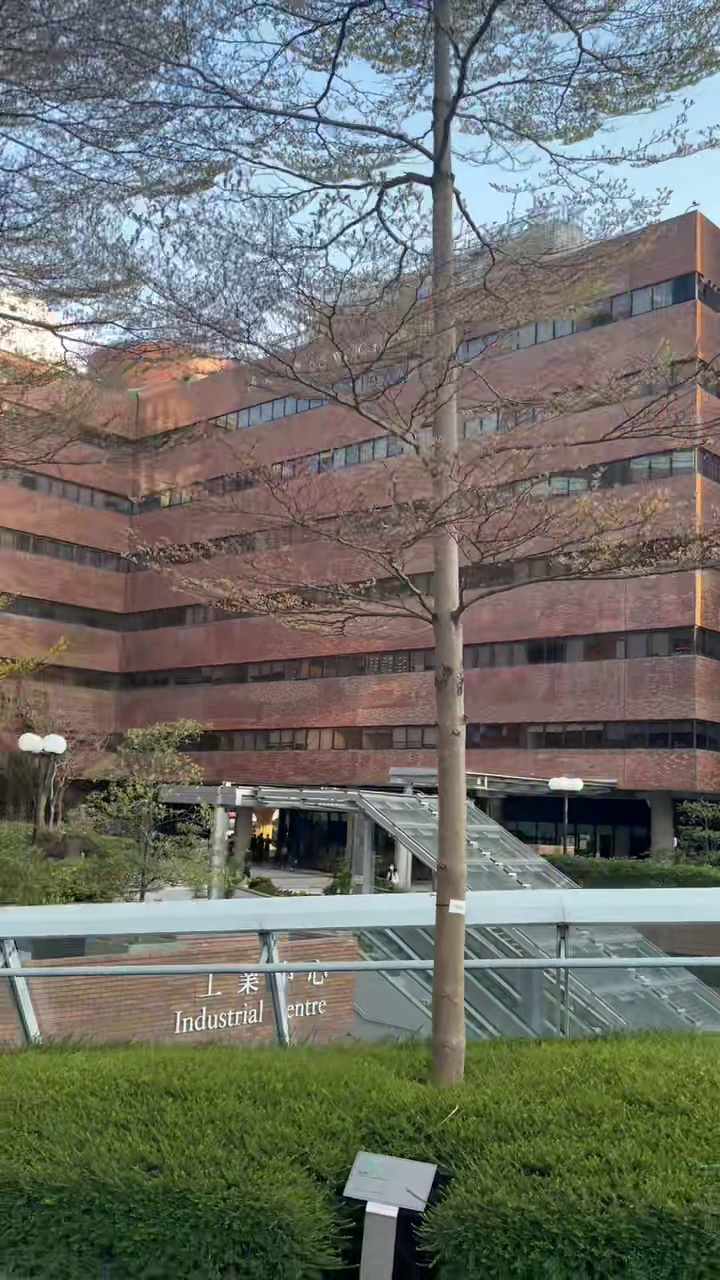Terminalia mantaly: (7, 0, 719, 1082)
